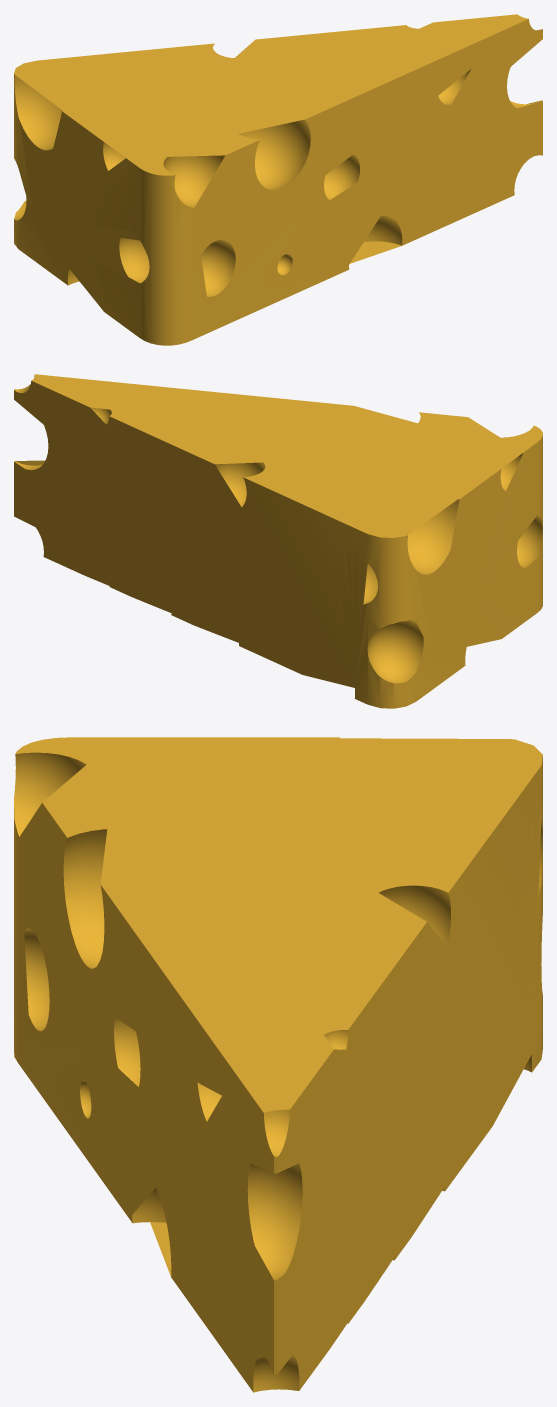
The model's file is Queijo.fbx.
3 views of the same model, one above another, from view 1: azimuth 30°, elevation 25°; view 2: azimuth 150°, elevation 25°; view 3: azimuth 270°, elevation 25° (orthographic). The views are drawn at different scales.
Parts seen in each view (by area): view 1: Cube; view 2: Cube; view 3: Cube.
Part boxes in pixels (x1,y1,x2,y2): Cube: (14, 14, 542, 345); Cube: (14, 374, 542, 708); Cube: (14, 737, 542, 1392).
Bounding box in the file's own units: 326 × 115 × 187.
